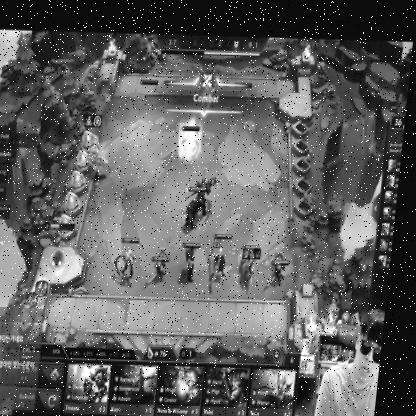streamer: (322, 304, 392, 416)
